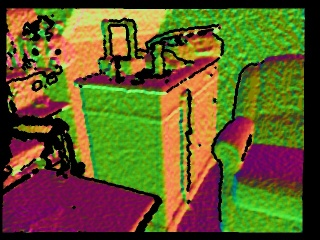station: (99, 17, 146, 75)
